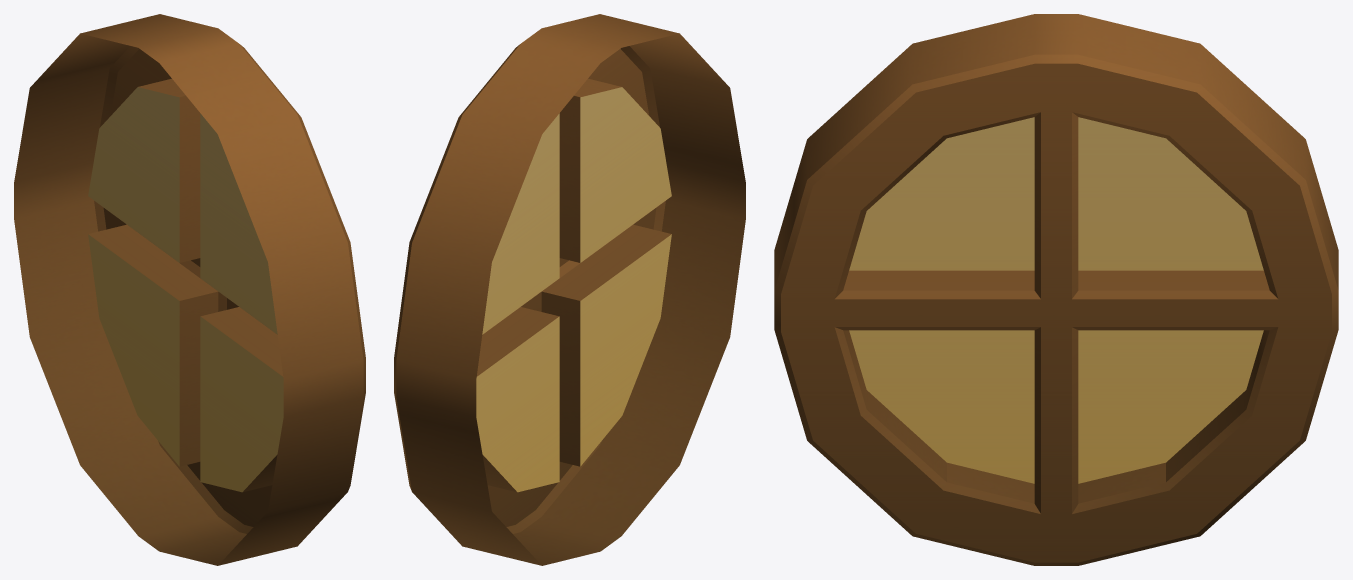
File: WindowRound.fbx
The picture shows the model from 3 angles, left to right: view 1: azimuth 30°, elevation 25°; view 2: azimuth 150°, elevation 25°; view 3: azimuth 270°, elevation 25°; orthographic projection. The views are drawn at different scales.
Parts seen in each view (by area): view 1: pCylinder6; view 2: pCylinder6; view 3: pCylinder6.
Boxes of the visible parts, bbox=[...] form: pCylinder6: bbox=[14, 14, 365, 565]; pCylinder6: bbox=[394, 14, 745, 565]; pCylinder6: bbox=[774, 14, 1338, 565].
Bounding box in the file's own units: 0.2189 × 1.2 × 1.2.
1 material, 1 textured.
